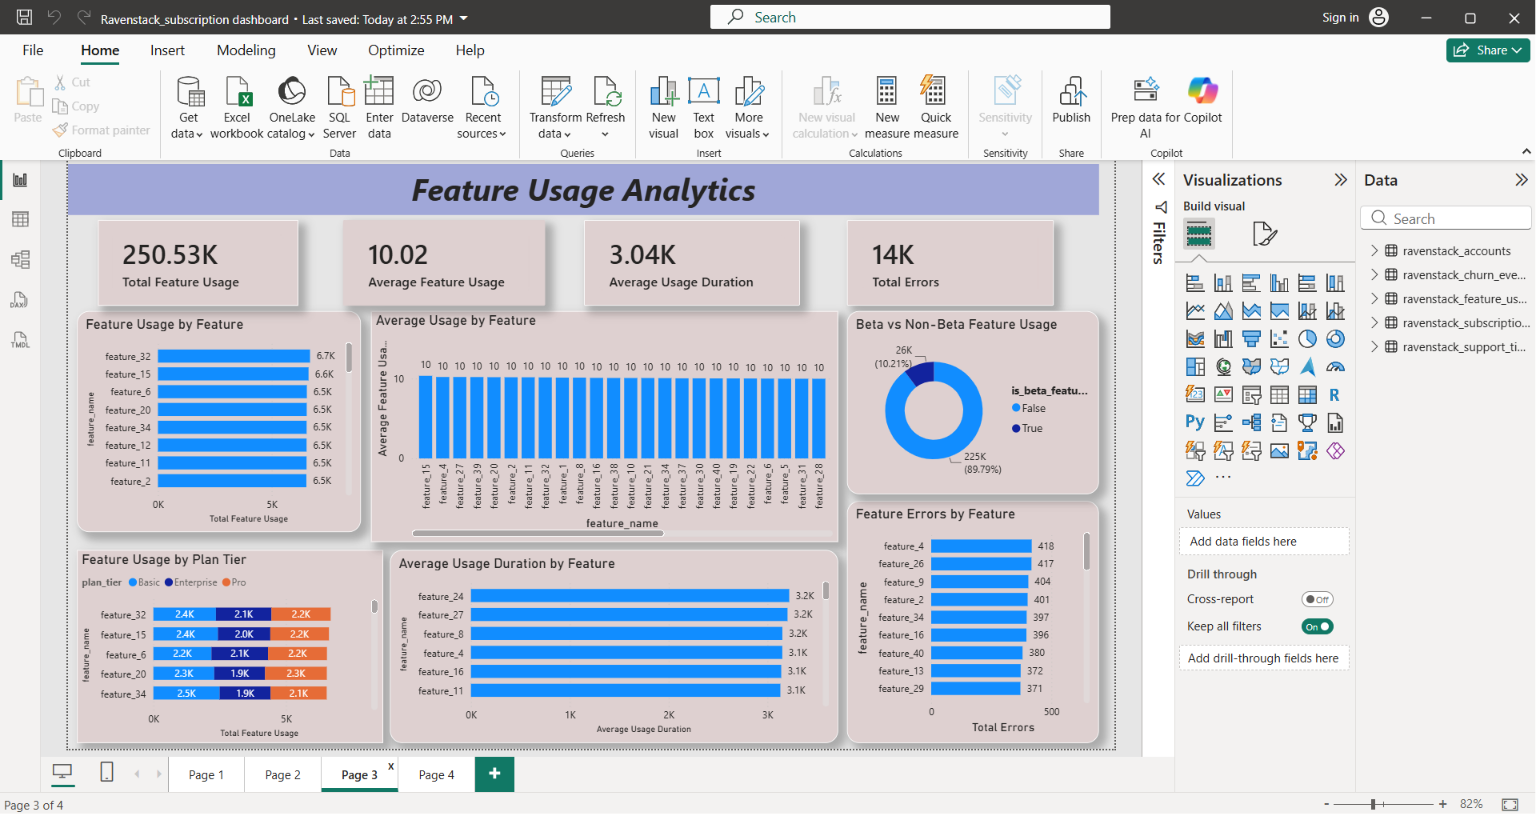

This screenshot's page, from the dashboard's own definition file:
{"tool":"powerbi","page":{"name":"Page 3","canvas":[1280,720],"ordinal":2},"visuals":[{"type":"barChart","title":"Feature Usage by Plan Tier","fields":{"Category":["ravenstack_feature_usage.feature_name"],"Series":["ravenstack_accounts.plan_tier"],"Y":["ravenstack_feature_usage.Total Feature Usage"]},"box":[11,476.9,374.2,236],"z":0},{"type":"clusteredBarChart","title":"Feature Usage by Feature","fields":{"Y":["ravenstack_feature_usage.Total Feature Usage"],"Category":["ravenstack_feature_usage.feature_name"]},"box":[11,184.6,347.3,270.2],"z":1000},{"type":"clusteredColumnChart","title":"Average Usage by Feature","fields":{"Category":["ravenstack_feature_usage.feature_name"],"Y":["ravenstack_feature_usage.Average Feature Usage"]},"box":[370.5,184.6,571.1,282.5],"z":2000},{"type":"clusteredBarChart","title":"Average Usage Duration by Feature","fields":{"Category":["ravenstack_feature_usage.feature_name"],"Y":["ravenstack_feature_usage.Average Usage Duration"]},"box":[393.8,476.9,547.8,236],"z":3000},{"type":"cardVisual","fields":{"Data":["ravenstack_feature_usage.Total Feature Usage"]},"box":[36.7,73.4,244.6,105.2],"z":4000},{"type":"cardVisual","fields":{"Data":["ravenstack_feature_usage.Average Feature Usage"]},"box":[336.3,73.4,247,105.2],"z":5000},{"type":"cardVisual","fields":{"Data":["ravenstack_feature_usage.Average Usage Duration"]},"box":[631,73.4,264.1,105.2],"z":6000},{"type":"cardVisual","fields":{"Data":["ravenstack_feature_usage.Total Errors"]},"box":[952.6,73.4,253.1,105.2],"z":7000},{"type":"clusteredBarChart","title":"Feature Errors by Feature","fields":{"Category":["ravenstack_feature_usage.feature_name"],"Y":["ravenstack_feature_usage.Total Errors"]},"box":[952.6,417,308.2,295.9],"z":8000},{"type":"donutChart","title":"Beta vs Non-Beta Feature Usage","fields":{"Category":["ravenstack_feature_usage.is_beta_feature"],"Y":["ravenstack_feature_usage.Total Feature Usage"]},"box":[952.6,184.6,308.2,223.8],"z":9000},{"type":"textbox","box":[0,4.9,1260.7,62.4],"z":10000}]}

Visuals, with their boxes on the page's 1280x720 design canvas (x1, y1, x2, y2). These are canvas units, not pixel positions in the 1536x814 screenshot, which may show the page scaled, cropped or inside an application window:
"Feature Usage by Plan Tier" barChart: l=11, t=477, r=385, b=713
"Feature Usage by Feature" clusteredBarChart: l=11, t=185, r=358, b=455
"Average Usage by Feature" clusteredColumnChart: l=370, t=185, r=942, b=467
"Average Usage Duration by Feature" clusteredBarChart: l=394, t=477, r=942, b=713
cardVisual - ravenstack_feature_usage.Total Feature Usage: l=37, t=73, r=281, b=179
cardVisual - ravenstack_feature_usage.Average Feature Usage: l=336, t=73, r=583, b=179
cardVisual - ravenstack_feature_usage.Average Usage Duration: l=631, t=73, r=895, b=179
cardVisual - ravenstack_feature_usage.Total Errors: l=953, t=73, r=1206, b=179
"Feature Errors by Feature" clusteredBarChart: l=953, t=417, r=1261, b=713
"Beta vs Non-Beta Feature Usage" donutChart: l=953, t=185, r=1261, b=408
textbox: l=0, t=5, r=1261, b=67
